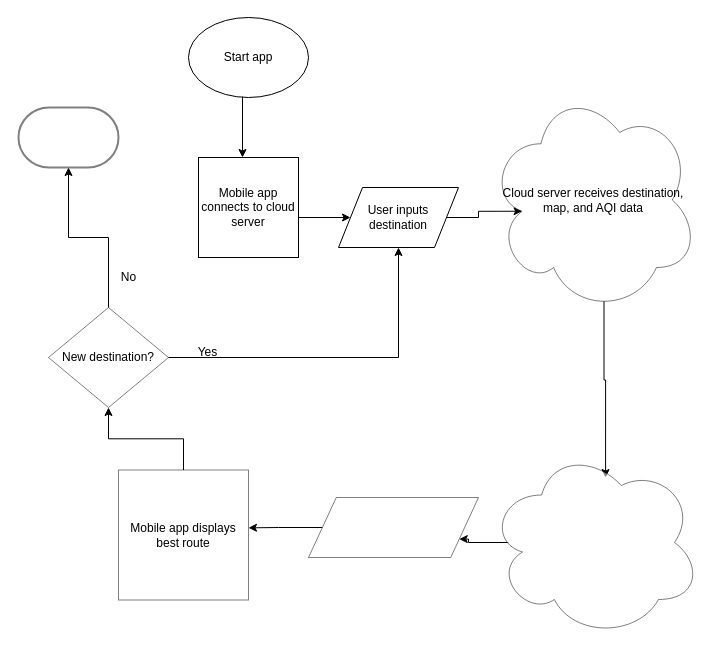
This 718x655 diagram has some shape labels left out. The centre of each missing label's shape, as x and y in pixels:
Cloud server calculates best route according to data.: the point at 594,542
Server outputs best route: the point at 393,527
Stop app: the point at 68,137
